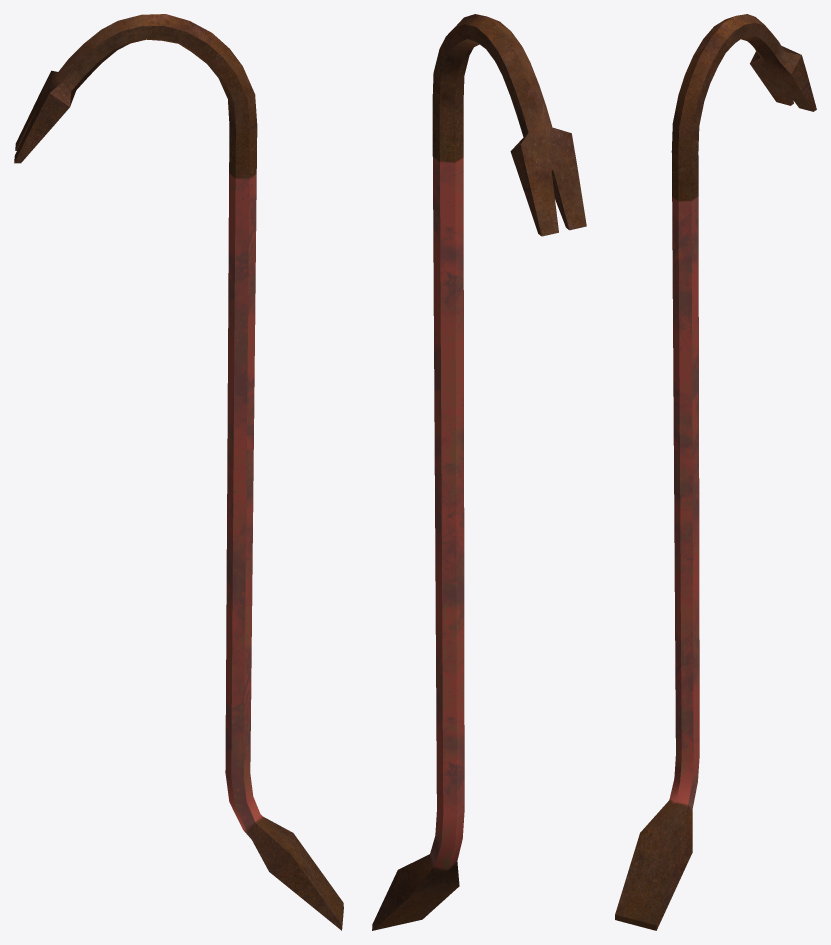
The model's file is Crowbar.fbx.
3 renders of one model, left to right at view 1: azimuth 30°, elevation 25°; view 2: azimuth 150°, elevation 25°; view 3: azimuth 270°, elevation 25°, orthographic. The views are drawn at different scales.
Visible parts, largest first — view 1: Crowbar; view 2: Crowbar; view 3: Crowbar.
Boxes of the visible parts, x1=… form: Crowbar: x1=14, y1=14, x2=343, y2=930; Crowbar: x1=372, y1=14, x2=586, y2=930; Crowbar: x1=615, y1=14, x2=816, y2=930.
Bounding box in the file's own units: 30.48 × 99.76 × 21.65.
1 material, 1 textured.
